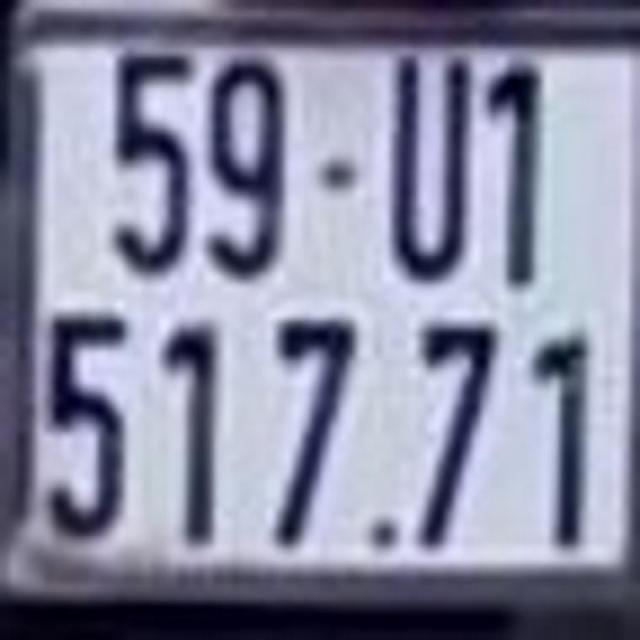1: (521, 317, 592, 548), (157, 316, 224, 543), (485, 56, 547, 290)
5: (43, 306, 125, 540), (110, 48, 190, 274)
7: (260, 304, 357, 555), (412, 306, 496, 546)
9: (205, 49, 287, 280)
U: (389, 50, 471, 285)
